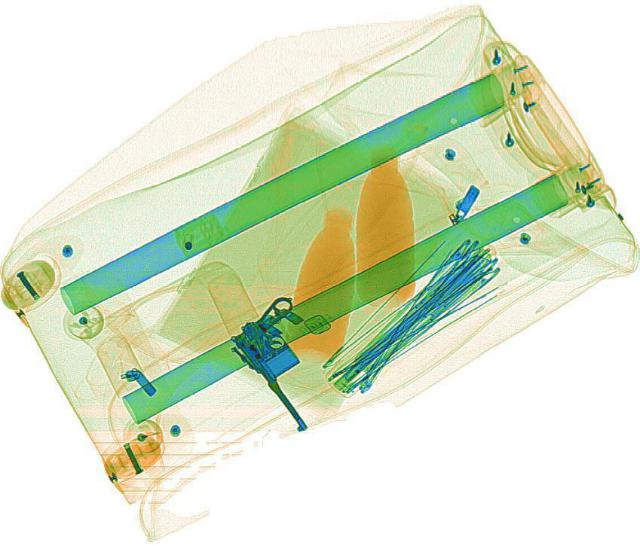Gun: (212, 292, 366, 433)
